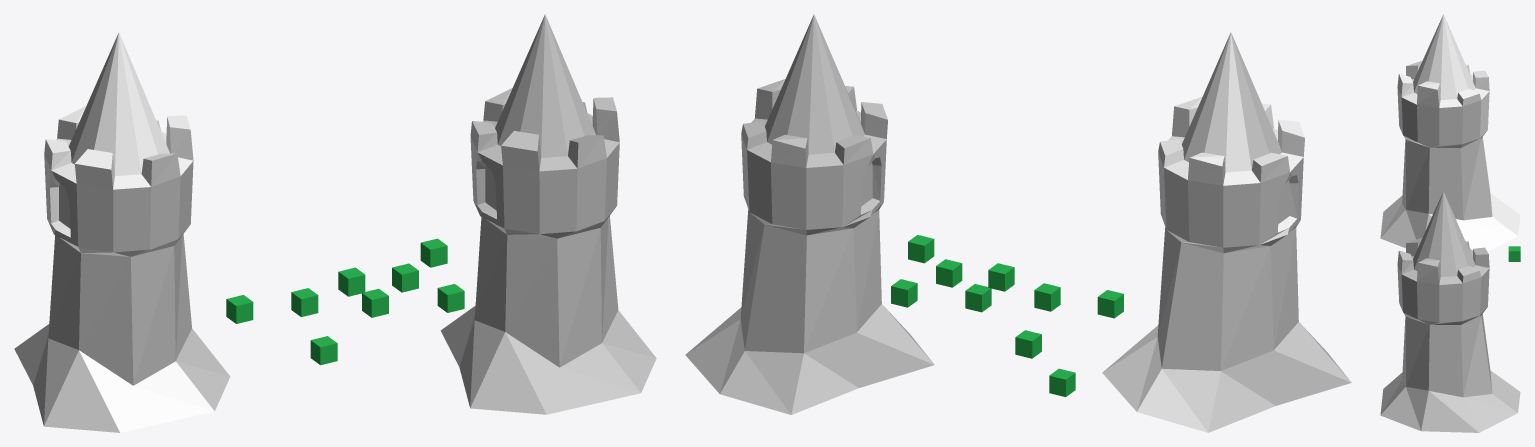
The model's file is Castle Tower.obj.
3 views of the same model, side by side, from view 1: azimuth 30°, elevation 25°; view 2: azimuth 150°, elevation 25°; view 3: azimuth 270°, elevation 25° (orthographic). The views are drawn at different scales.
Visible parts, largest first — view 1: Object.1, Object.2, Object.4, Object.8, Object.10, Object.11, Object.9, Object.7, Object.6, Object.5; view 2: Object.2, Object.1, Object.3, Object.8, Object.4, Object.6, Object.7, Object.10, Object.11, Object.5, Object.9; view 3: Object.1, Object.2, Object.3.
Boxes of the visible parts, x1,y1,x2,y2 form: Object.1: [440, 14, 656, 414]; Object.2: [14, 32, 230, 432]; Object.4: [310, 336, 337, 365]; Object.8: [338, 267, 365, 296]; Object.10: [437, 284, 464, 312]; Object.11: [420, 238, 447, 267]; Object.9: [226, 295, 253, 323]; Object.7: [291, 288, 318, 317]; Object.6: [392, 263, 418, 292]; Object.5: [362, 288, 388, 317]; Object.2: [1102, 32, 1351, 432]; Object.1: [685, 14, 934, 414]; Object.3: [1049, 368, 1075, 396]; Object.8: [988, 263, 1014, 291]; Object.4: [1015, 330, 1041, 358]; Object.6: [936, 259, 962, 287]; Object.7: [1034, 283, 1060, 311]; Object.10: [891, 279, 917, 307]; Object.11: [908, 235, 934, 263]; Object.5: [965, 284, 991, 312]; Object.9: [1097, 290, 1123, 318]; Object.1: [1380, 191, 1520, 432]; Object.2: [1380, 14, 1520, 252]; Object.3: [1508, 246, 1520, 261].
Bounding box in the file's own units: 1467 × 981 × 471.
